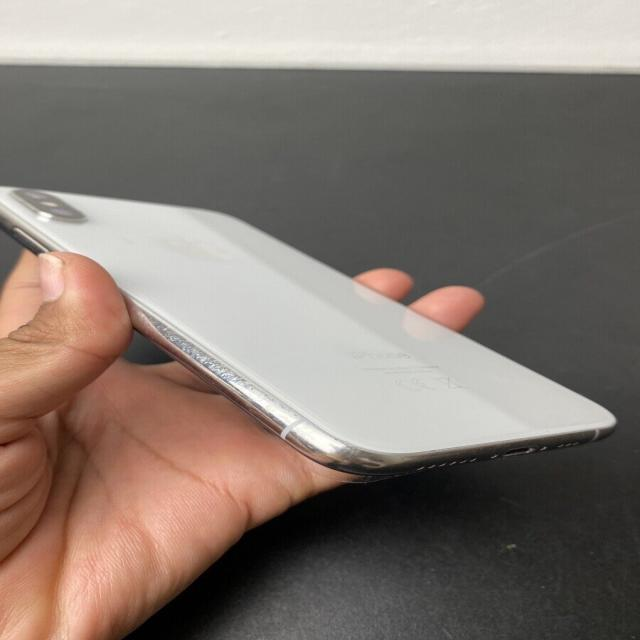Scratches: (147, 320, 192, 353), (224, 365, 253, 407), (197, 354, 221, 383)
